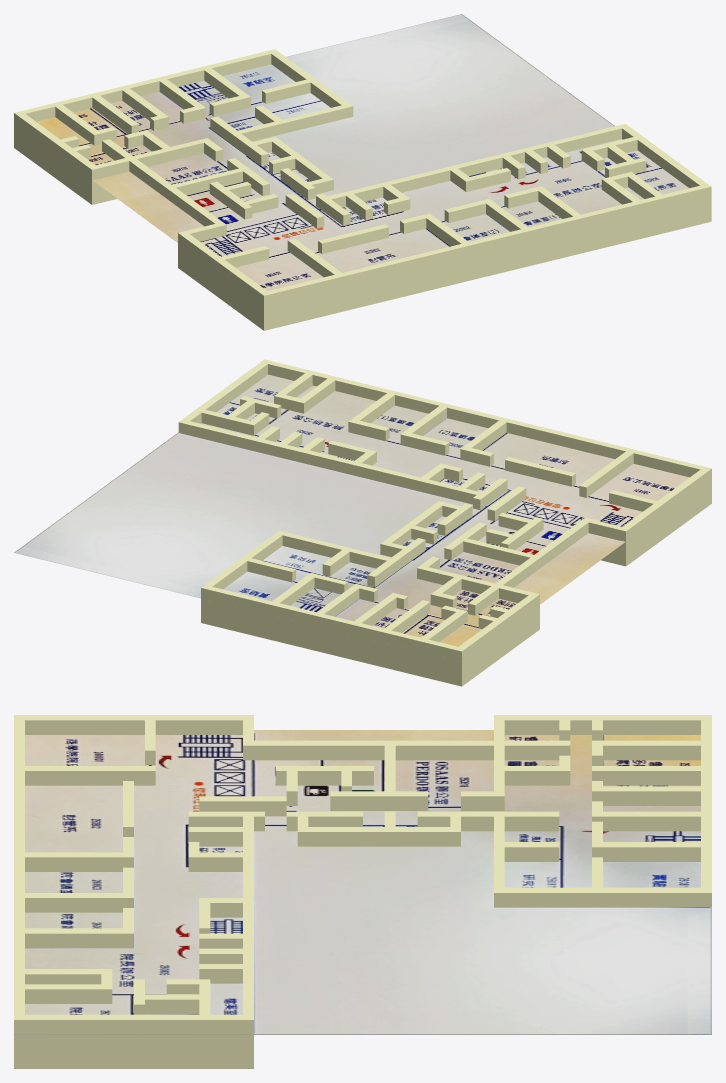
File: College-of-Commerce-8F-cube.glb
3 views of the same model, one above another, from view 1: azimuth 30°, elevation 25°; view 2: azimuth 150°, elevation 25°; view 3: azimuth 270°, elevation 25° (orthographic). The views are drawn at different scales.
Parts seen in each view (by area): view 1: Plane, Cube; view 2: Plane, Cube; view 3: Plane, Cube.
Boxes of the visible parts, x1,y1,x2,y2 form: Plane: [36, 14, 688, 290]; Cube: [14, 49, 711, 330]; Plane: [14, 374, 689, 646]; Cube: [178, 359, 711, 686]; Plane: [14, 730, 711, 1034]; Cube: [14, 715, 711, 1068].
Bounding box in the file's own units: 40.07 × 3 × 38.74.
2 materials, 1 textured.
